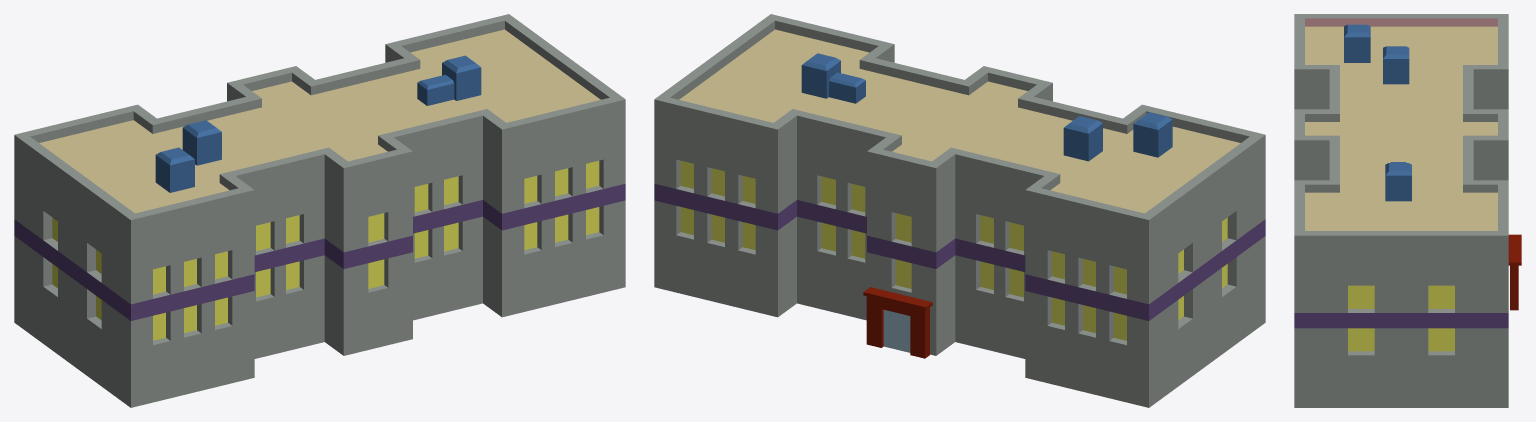
The model's file is Target_Building_7.fbx.
3 renders of one model, left to right at view 1: azimuth 30°, elevation 25°; view 2: azimuth 150°, elevation 25°; view 3: azimuth 270°, elevation 25°, orthographic. The views are drawn at different scales.
Parts seen in each view (by area): view 1: Building_7; view 2: Building_7; view 3: Building_7.
Boxes of the visible parts, x1,y1,x2,y2 form: Building_7: (14, 14, 625, 407); Building_7: (654, 14, 1265, 407); Building_7: (1294, 14, 1521, 407).
Size of the model in its own units: 348 by 141 by 151.
